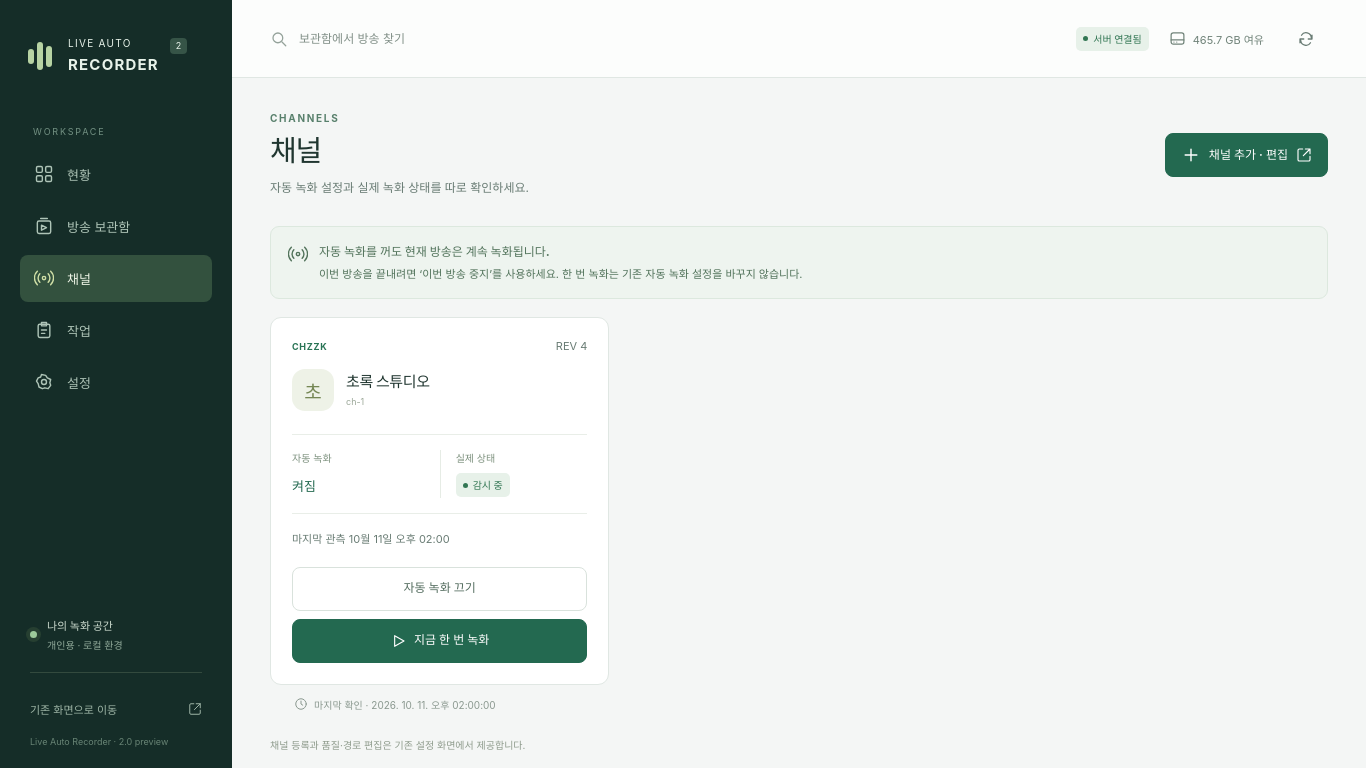
Test: never paints recording or resends while a command is accepted
Check: the heading "초록 스튜디오" is shown, box [346, 370, 430, 391]
Step 1. Click the button "지금 한 번 녹화" → (440, 641), box [292, 619, 587, 663]
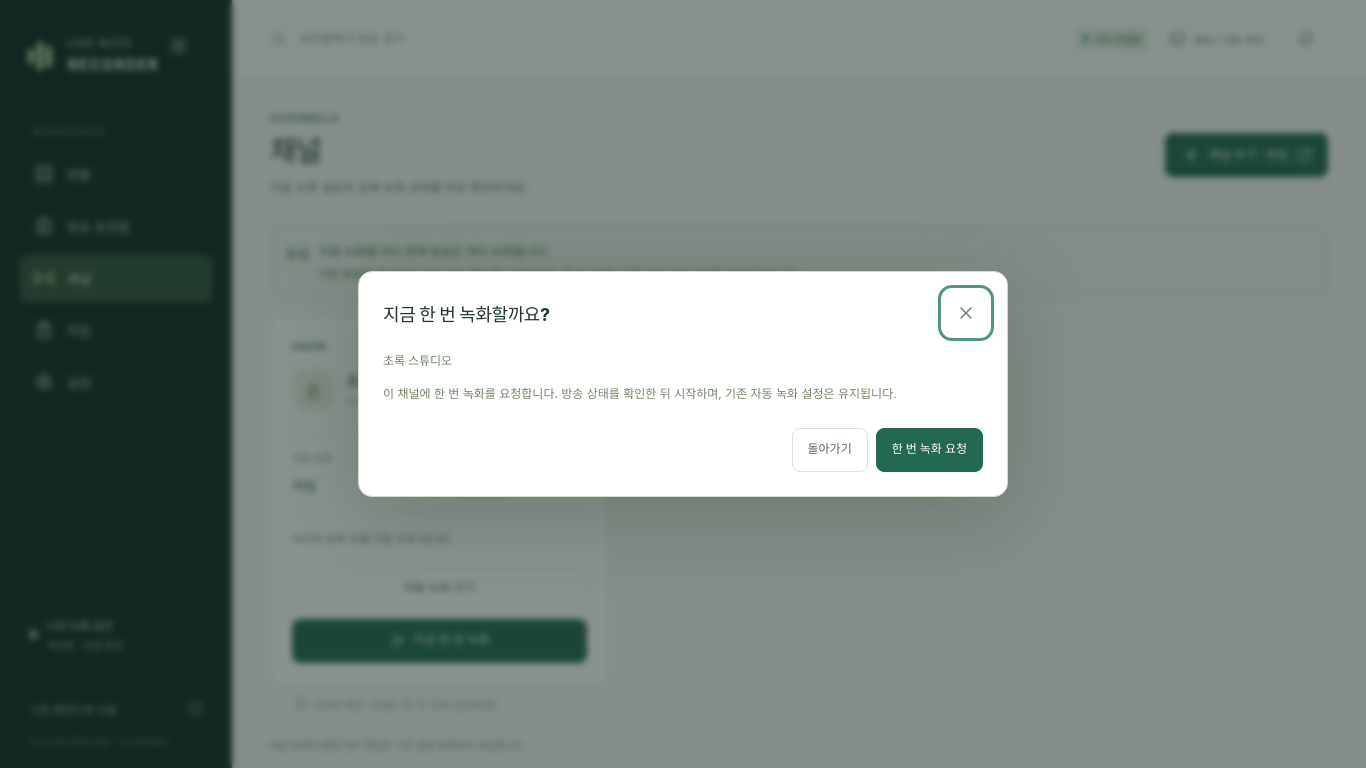
Step 2. Click the button "한 번 녹화 요청" → (929, 450), box [876, 428, 983, 472]
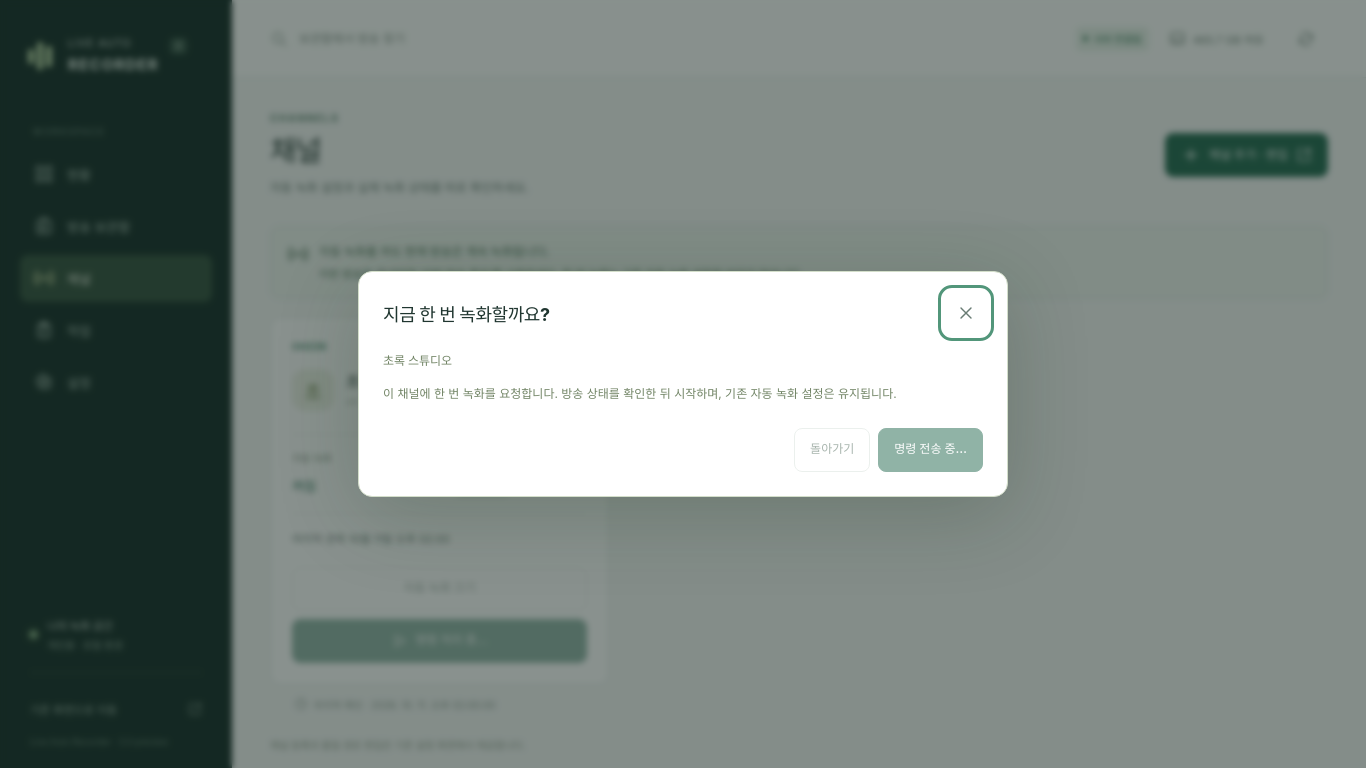
Step 3. Click the button "명령 전송 중…" → (931, 450), box [878, 428, 983, 472]
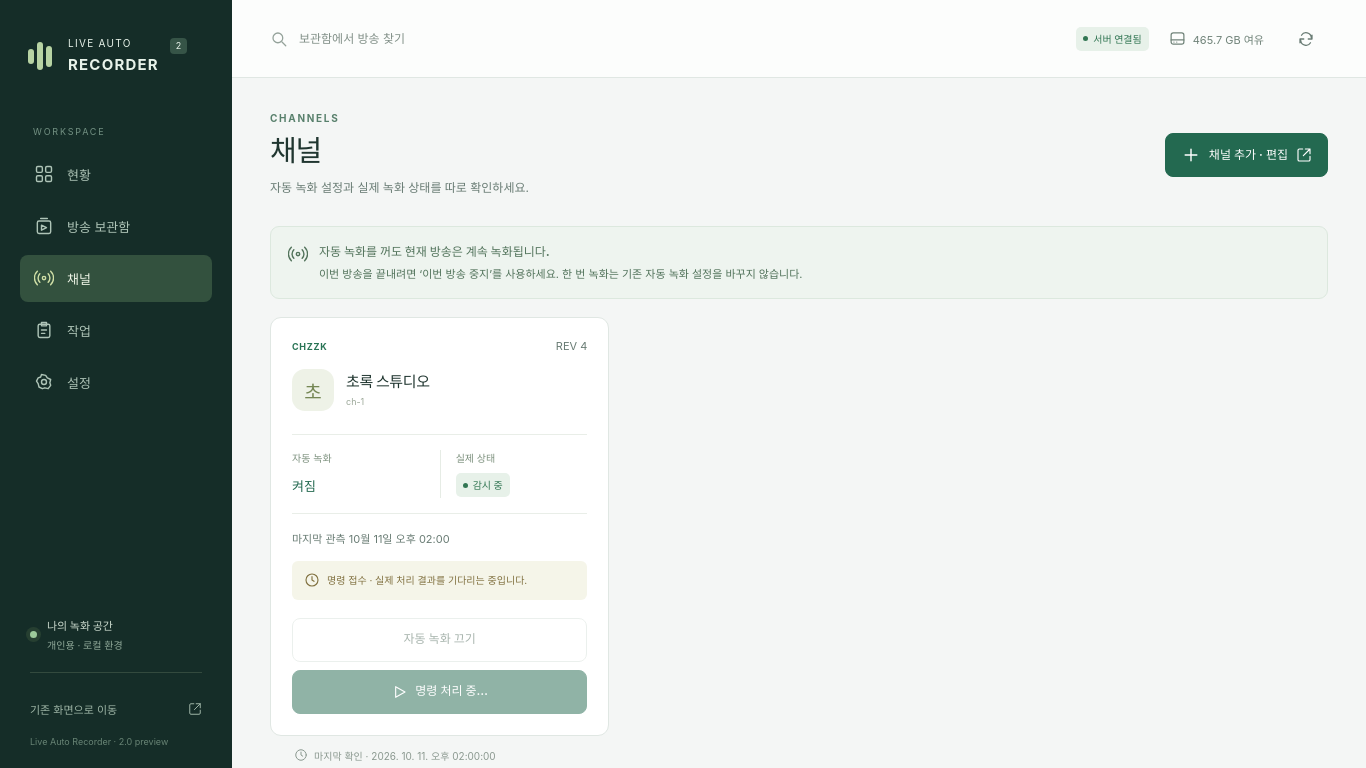
Check: the text "감시 중" is shown, box [456, 473, 510, 497]
Check: the button "명령 처리 중…" is disabled, box [292, 670, 587, 714]
Check: the text "명령 접수 · 실제 처리 결과를 기다리는 중입니다." is shown, box [327, 572, 527, 589]
